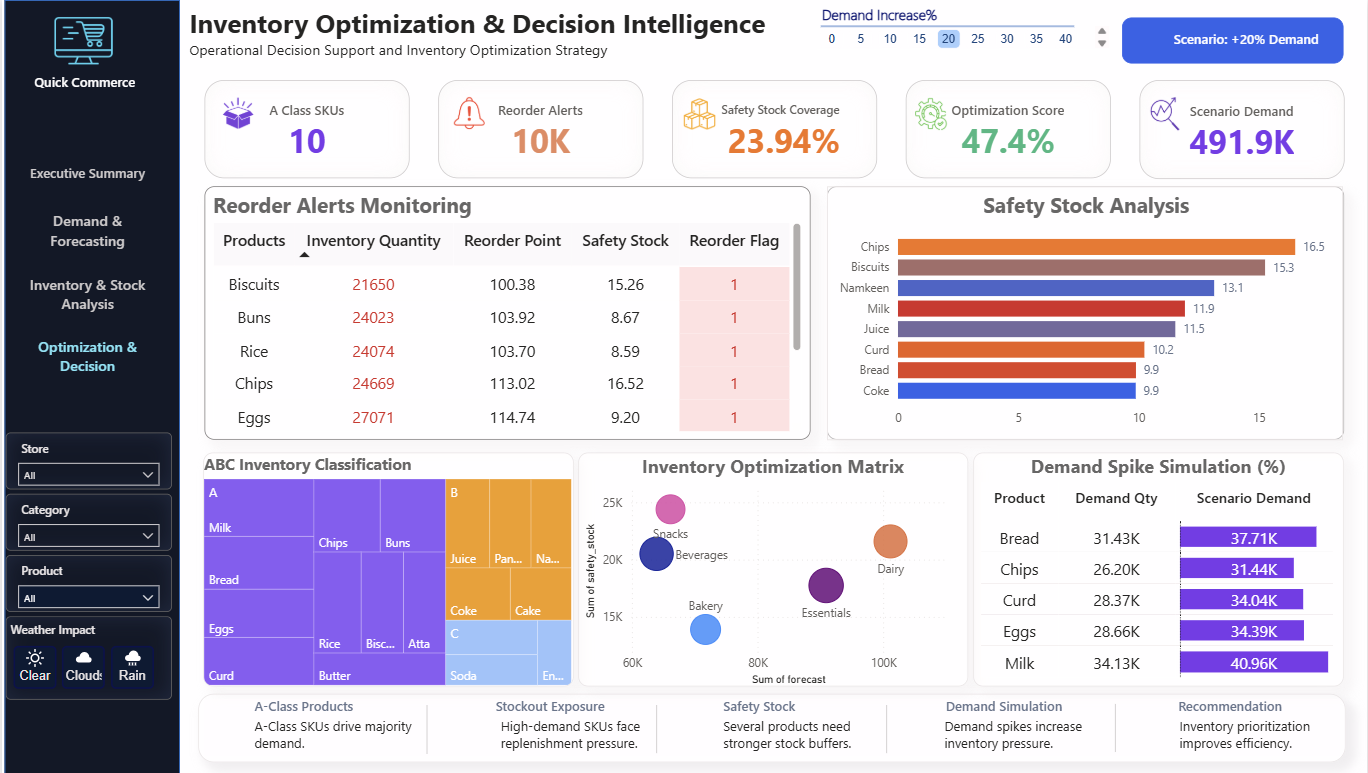

What the dashboard file says about the page in this screenshot:
{"tool":"powerbi","page":{"name":"Inventory Optimization & Decision ","canvas":[1400,800],"ordinal":3},"visuals":[{"type":"shape","box":[2.9,0,180,800],"z":0},{"type":"textbox","box":[186.9,0,757.1,47.1],"z":1000,"group":"g1"},{"type":"cardVisual","fields":{"Data":["inventory_data.A Class SKU Count"]},"box":[207.4,81.4,210,100.5],"z":1000},{"type":"tableEx","title":"Reorder Alerts Monitoring","fields":{"Values":["inventory_data.product_name","Sum(inventory_data.inventory_qty)","Avg(inventory_data.reorder_point)","Avg(inventory_data.safety_stock)","inventory_data.reorder_flag"]},"box":[207.1,191.4,621.4,260],"z":2000},{"type":"clusteredBarChart","title":"Safety Stock Analysis","fields":{"Category":["inventory_data.product_name"],"Y":["Avg(inventory_data.safety_stock)"]},"box":[845.7,191.4,530,260],"z":3000},{"type":"treemap","title":"ABC Inventory Classification","fields":{"Values":["DAX Measures.Total Demand"],"Details":["inventory_data.product_name"],"Group":["inventory_data.abc_category"]},"box":[206.3,463.8,380,240],"z":4000},{"type":"cardVisual","fields":{"Data":["DAX Measures.Reorder Alerts"]},"box":[447,81.4,210,100.5],"z":5000},{"type":"cardVisual","fields":{"Data":["DAX Measures.Safety Stock Coverage %"]},"box":[686.7,81.4,210,100.5],"z":6000},{"type":"cardVisual","fields":{"Data":["DAX Measures.Scenario Demand"]},"box":[1166.4,81.4,210,101.4],"z":7000},{"type":"scatterChart","title":"Inventory Optimization Matrix","fields":{"Size":["Sum(inventory_data.gap)"],"X":["Sum(inventory_data.forecast)"],"Y":["Sum(inventory_data.safety_stock)"],"Series":["inventory_data.category"]},"box":[591,463.8,400,240],"z":8000},{"type":"tableEx","title":"Demand Spike Simulation (%)","fields":{"Values":["inventory_data.product_name","Sum(inventory_data.demand_qty)","DAX Measures.Scenario Demand"]},"box":[995.7,463.8,380,240],"z":9000},{"type":"group","id":"g1","title":"Group 1","box":[186.9,0,757.1,84.3],"z":10000},{"type":"cardVisual","fields":{"Data":["DAX Measures.Optimization Score"]},"box":[926.3,81.4,210.5,100.5],"z":11000},{"type":"ChicletSlicer1448559807354","fields":{"Category":["Demand Increase.Demand Increase"]},"box":[835.7,27.1,300,24],"z":12000},{"type":"shape","box":[201.9,711.4,1177.1,70],"z":13000},{"type":"textbox","box":[500.9,710.5,143.4,29.5],"z":14000},{"type":"textbox","box":[734.4,710.5,96.5,29.5],"z":15000},{"type":"textbox","box":[186.9,35.7,461.4,48.6],"z":16000,"group":"g1"},{"type":"textbox","box":[962.4,709.9,154.3,30],"z":16000},{"type":"textbox","box":[254.5,731.3,186.3,46.9],"z":17000},{"type":"textbox","box":[506.2,731.3,163.5,49.6],"z":18000},{"type":"textbox","box":[735.1,731.3,160.9,48.3],"z":19000},{"type":"textbox","box":[961.3,731.3,175.6,48.3],"z":20000},{"type":"textbox","box":[1201,709.9,125.7,30],"z":21000},{"type":"textbox","box":[1202.2,731.3,152.8,48.3],"z":22000},{"type":"textbox","box":[254.5,710.5,130,29.5],"z":23000},{"type":"shape","box":[429.6,722.7,12.9,50],"z":24000},{"type":"shape","box":[665.8,722.5,12.1,49.6],"z":25000},{"type":"shape","box":[901.1,722.5,12.1,49.6],"z":26000},{"type":"shape","box":[1136.5,721.2,12.1,49.6],"z":27000},{"type":"actionButton","box":[12.9,156.1,150,40],"z":28000},{"type":"actionButton","box":[12.9,208.5,150,54.3],"z":29000},{"type":"actionButton","box":[12.9,275.1,150,51.4],"z":30000},{"type":"actionButton","box":[12.3,339,150,52.9],"z":31000},{"type":"actionButton","box":[51.4,14.3,64.3,54.3],"z":32000},{"type":"actionButton","box":[27.1,68.6,115.7,30],"z":33000},{"type":"slicer","fields":{"Values":["inventory_data.category"]},"box":[4,506.4,170,58.4],"z":34000},{"type":"slicer","fields":{"Values":["inventory_data.store_id"]},"box":[4,443.8,170,58.4],"z":35000},{"type":"slicer","fields":{"Values":["inventory_data.product_name"]},"box":[4,568.9,170,58.4],"z":36000},{"type":"ChicletSlicer1448559807354","title":"Weather Impact","fields":{"Category":["inventory_data.weather_type"],"Image":["inventory_data.Weather SVG"]},"box":[4,631.4,170,85.7],"z":37000},{"type":"cardVisual","fields":{"Data":["DAX Measures.Scenario Label"]},"box":[1148.6,18.6,227.1,47.1],"z":38000},{"type":"textbox","box":[835.7,0,154.3,30],"z":39000},{"type":"shape","box":[840,20,260,12.9],"z":40000},{"type":"image","box":[224.3,98.6,35,35.7],"z":41000},{"type":"image","box":[461.4,98.6,35.7,35.7],"z":42000},{"type":"image","box":[697.1,98.6,35.7,35.7],"z":43000},{"type":"image","box":[934.3,98.6,35.7,35.7],"z":44000},{"type":"image","box":[1174.3,98.6,35.7,35.7],"z":45000}]}

Visuals, with their boxes on the page's 1400x800 design canvas (x1, y1, x2, y2). These are canvas units, not pixel positions in the 1368x773 screenshot, which may show the page scaled, cropped or inside an application window:
shape: BBox(3, 0, 183, 800)
textbox: BBox(187, 0, 944, 47)
cardVisual - inventory_data.A Class SKU Count: BBox(207, 81, 417, 182)
"Reorder Alerts Monitoring" tableEx: BBox(207, 191, 828, 451)
"Safety Stock Analysis" clusteredBarChart: BBox(846, 191, 1376, 451)
"ABC Inventory Classification" treemap: BBox(206, 464, 586, 704)
cardVisual - DAX Measures.Reorder Alerts: BBox(447, 81, 657, 182)
cardVisual - DAX Measures.Safety Stock Coverage %: BBox(687, 81, 897, 182)
cardVisual - DAX Measures.Scenario Demand: BBox(1166, 81, 1376, 183)
"Inventory Optimization Matrix" scatterChart: BBox(591, 464, 991, 704)
"Demand Spike Simulation (%)" tableEx: BBox(996, 464, 1376, 704)
"Group 1" group: BBox(187, 0, 944, 84)
cardVisual - DAX Measures.Optimization Score: BBox(926, 81, 1137, 182)
ChicletSlicer1448559807354 - Demand Increase.Demand Increase: BBox(836, 27, 1136, 51)
shape: BBox(202, 711, 1379, 781)
textbox: BBox(501, 710, 644, 740)
textbox: BBox(734, 710, 831, 740)
textbox: BBox(187, 36, 648, 84)
textbox: BBox(962, 710, 1117, 740)
textbox: BBox(254, 731, 441, 778)
textbox: BBox(506, 731, 670, 781)
textbox: BBox(735, 731, 896, 780)
textbox: BBox(961, 731, 1137, 780)
textbox: BBox(1201, 710, 1327, 740)
textbox: BBox(1202, 731, 1355, 780)
textbox: BBox(254, 710, 384, 740)
shape: BBox(430, 723, 442, 773)
shape: BBox(666, 722, 678, 772)
shape: BBox(901, 722, 913, 772)
shape: BBox(1136, 721, 1149, 771)
actionButton: BBox(13, 156, 163, 196)
actionButton: BBox(13, 208, 163, 263)
actionButton: BBox(13, 275, 163, 326)
actionButton: BBox(12, 339, 162, 392)
actionButton: BBox(51, 14, 116, 69)
actionButton: BBox(27, 69, 143, 99)
slicer - inventory_data.category: BBox(4, 506, 174, 565)
slicer - inventory_data.store_id: BBox(4, 444, 174, 502)
slicer - inventory_data.product_name: BBox(4, 569, 174, 627)
"Weather Impact" ChicletSlicer1448559807354: BBox(4, 631, 174, 717)
cardVisual - DAX Measures.Scenario Label: BBox(1149, 19, 1376, 66)
textbox: BBox(836, 0, 990, 30)
shape: BBox(840, 20, 1100, 33)
image: BBox(224, 99, 259, 134)
image: BBox(461, 99, 497, 134)
image: BBox(697, 99, 733, 134)
image: BBox(934, 99, 970, 134)
image: BBox(1174, 99, 1210, 134)
